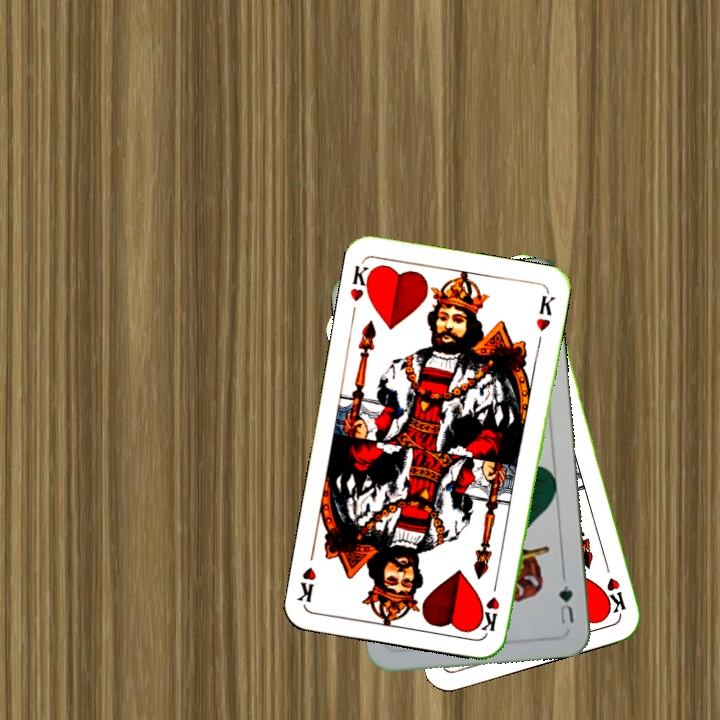GU: (554, 571, 577, 627)
HK: (600, 557, 628, 616), (477, 576, 502, 634), (346, 261, 377, 304)
